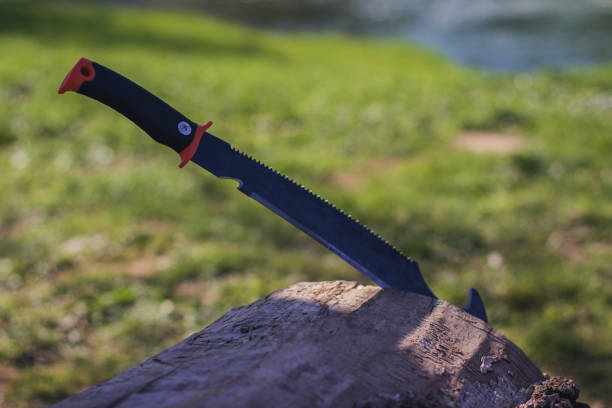knife: (56, 54, 491, 326)
